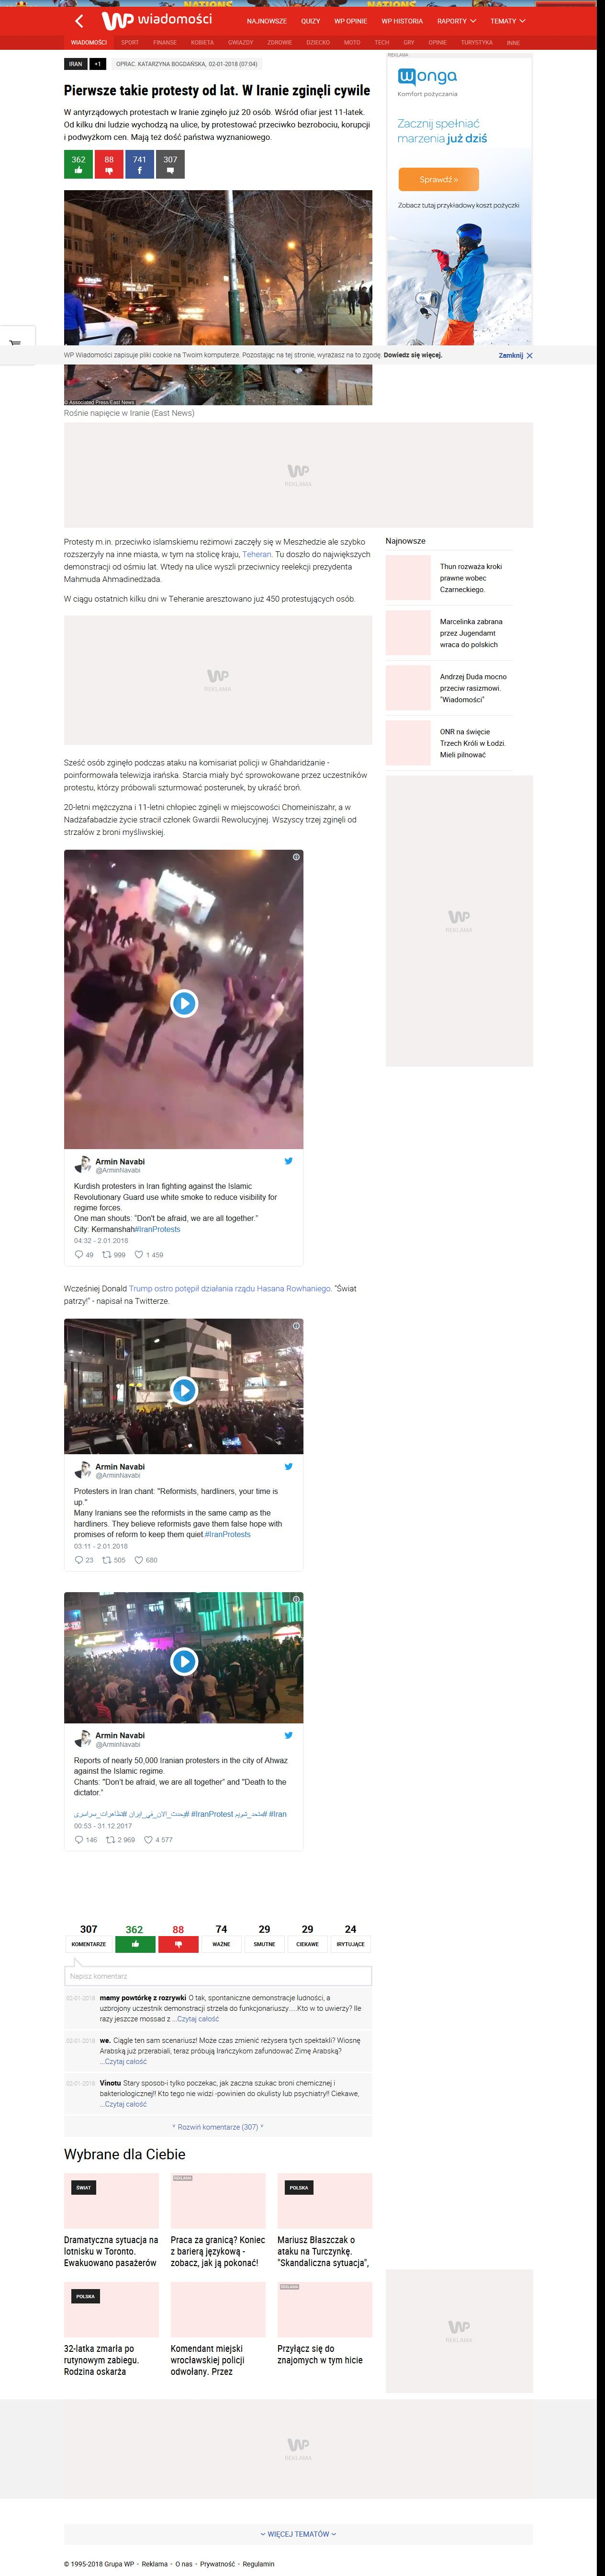title: (64, 84, 371, 100)
